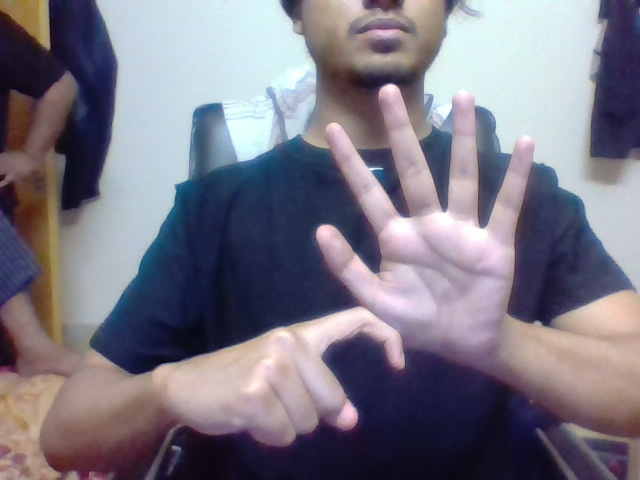R: (292, 297, 410, 438)
